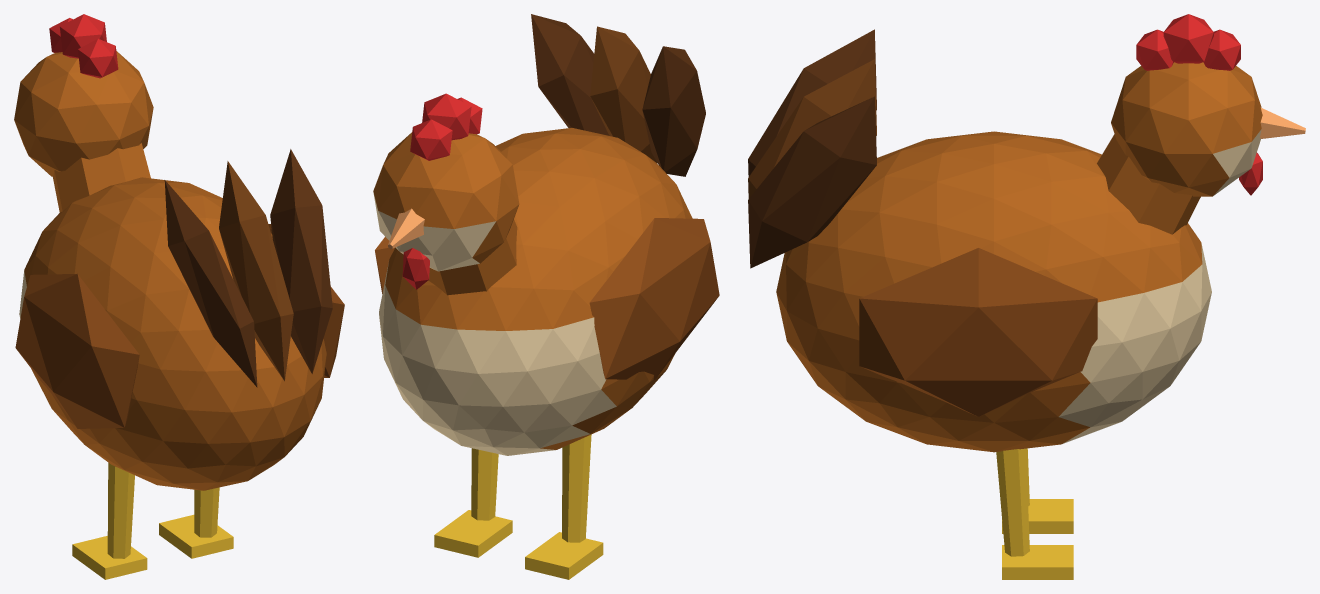
File: hm_chicken.glb
3 views of the same model, side by side, from view 1: azimuth 30°, elevation 25°; view 2: azimuth 150°, elevation 25°; view 3: azimuth 270°, elevation 25° (orthographic). The views are drawn at different scales.
Visible parts, largest first — view 1: body, tail, head, leg_fl, leg_fr; view 2: body, head, tail, leg_fl, leg_fr; view 3: body, head, tail, leg_fr, leg_fl.
Part boxes in pixels (bbox=[...]): body: bbox=[15, 177, 344, 490]; tail: bbox=[164, 149, 332, 387]; head: bbox=[14, 14, 153, 212]; leg_fl: bbox=[72, 463, 147, 579]; leg_fr: bbox=[159, 487, 233, 558]; body: bbox=[375, 128, 719, 455]; head: bbox=[373, 93, 519, 295]; tail: bbox=[531, 14, 705, 176]; leg_fl: bbox=[525, 434, 603, 579]; leg_fr: bbox=[434, 448, 512, 557]; body: bbox=[776, 131, 1211, 452]; head: bbox=[1097, 14, 1305, 234]; tail: bbox=[748, 29, 876, 268]; leg_fr: bbox=[996, 448, 1073, 579]; leg_fl: bbox=[1002, 448, 1073, 533].
Size of the model in its own units: 20.54 by 37.7 by 35.85.
